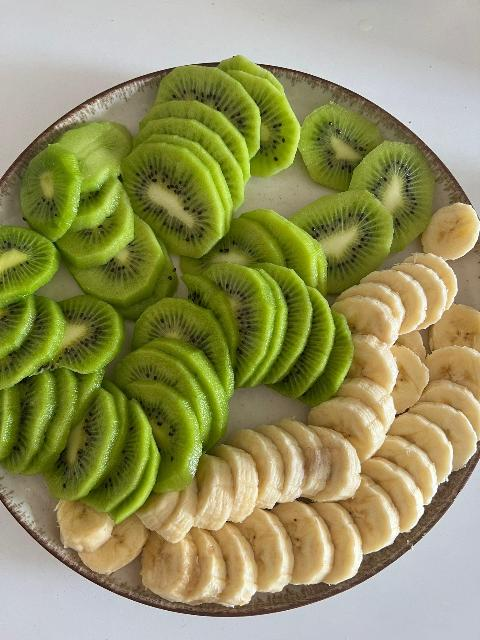Organik: (291, 380, 441, 594), (159, 431, 322, 597), (106, 256, 267, 389), (89, 347, 214, 512), (156, 61, 287, 186), (225, 212, 319, 375), (412, 306, 480, 528), (345, 266, 453, 397), (0, 297, 70, 464), (128, 142, 231, 253), (58, 375, 130, 498), (23, 138, 117, 230), (56, 503, 156, 570), (350, 145, 427, 228), (297, 130, 389, 194), (308, 197, 383, 272), (45, 292, 127, 358), (0, 227, 61, 295), (419, 203, 480, 264)
